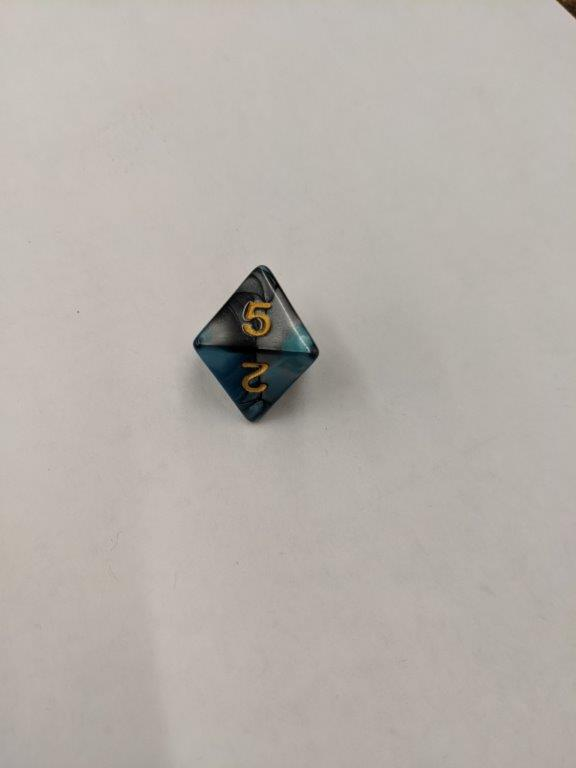d8-5: (192, 262, 320, 426)
